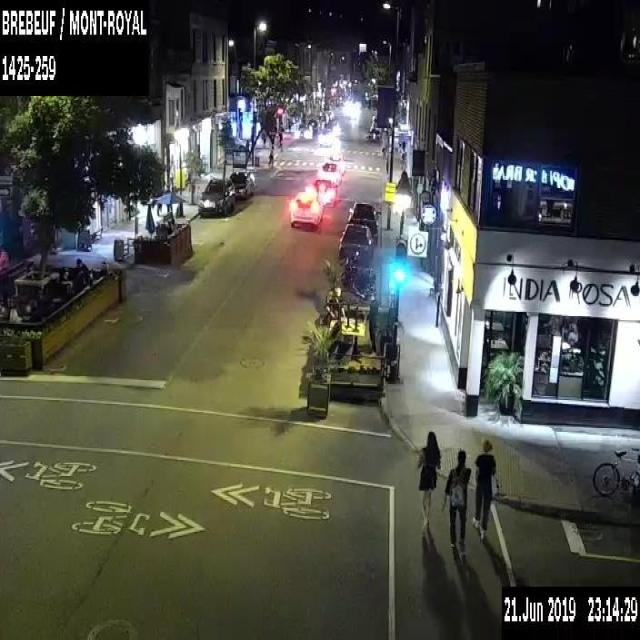pedestrian: (444, 446, 472, 550), (416, 428, 442, 536), (471, 436, 497, 540), (268, 145, 274, 168)
vehicle: (198, 178, 235, 215), (338, 225, 374, 261), (347, 198, 382, 234), (288, 190, 321, 227), (228, 169, 255, 202), (308, 179, 336, 209), (316, 162, 344, 183), (341, 99, 363, 125), (294, 124, 312, 142), (314, 111, 328, 127), (305, 119, 318, 132)
